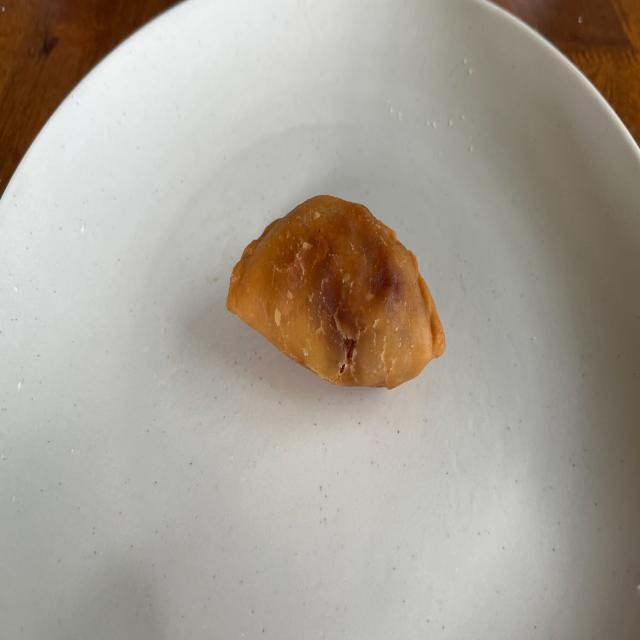karipap: (226, 196, 445, 389)
